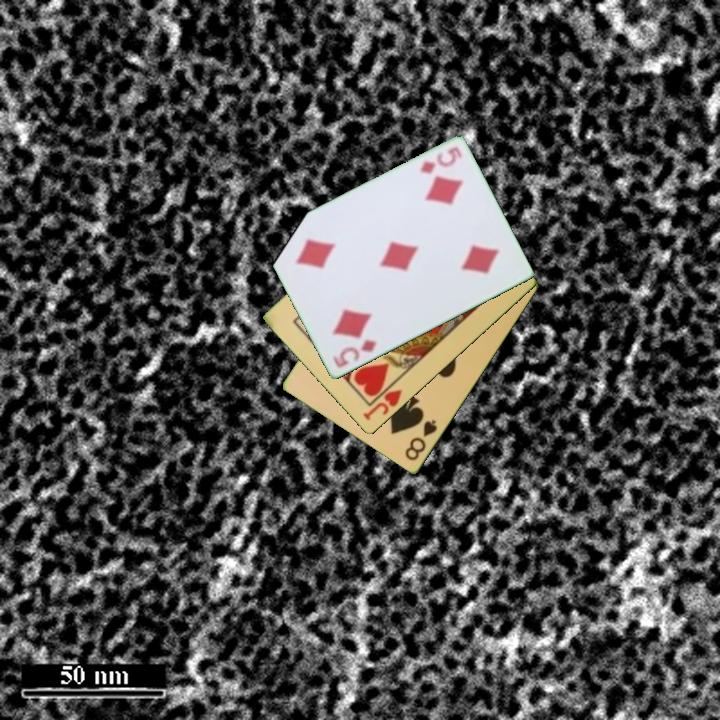5d: (329, 336, 380, 371), (416, 144, 465, 177)
8s: (401, 417, 440, 464)
Jh: (359, 386, 405, 424)
